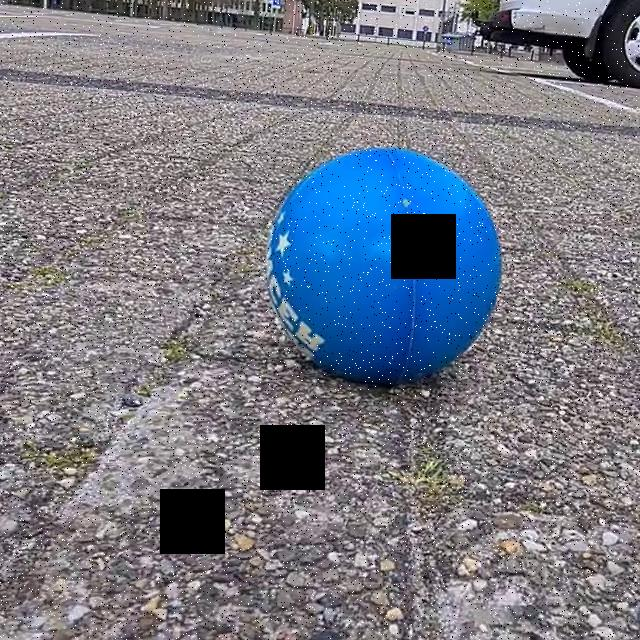ball: (326, 145, 508, 384)
